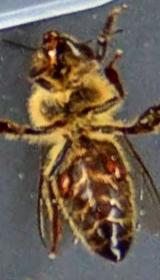varroa_mite: (94, 153, 135, 182), (47, 169, 78, 194)
